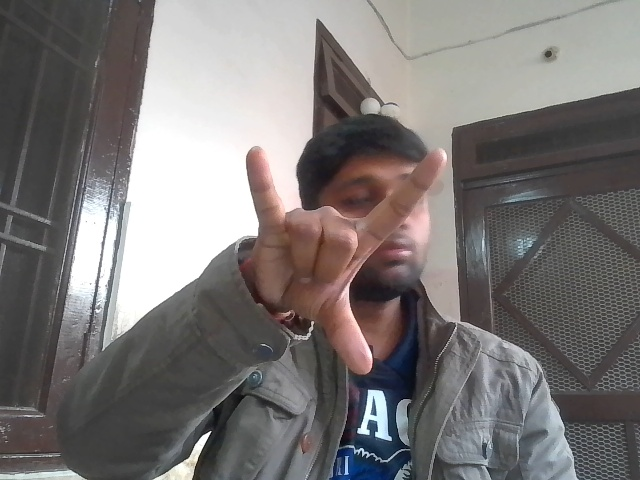ILoveYou: (220, 126, 461, 387)
